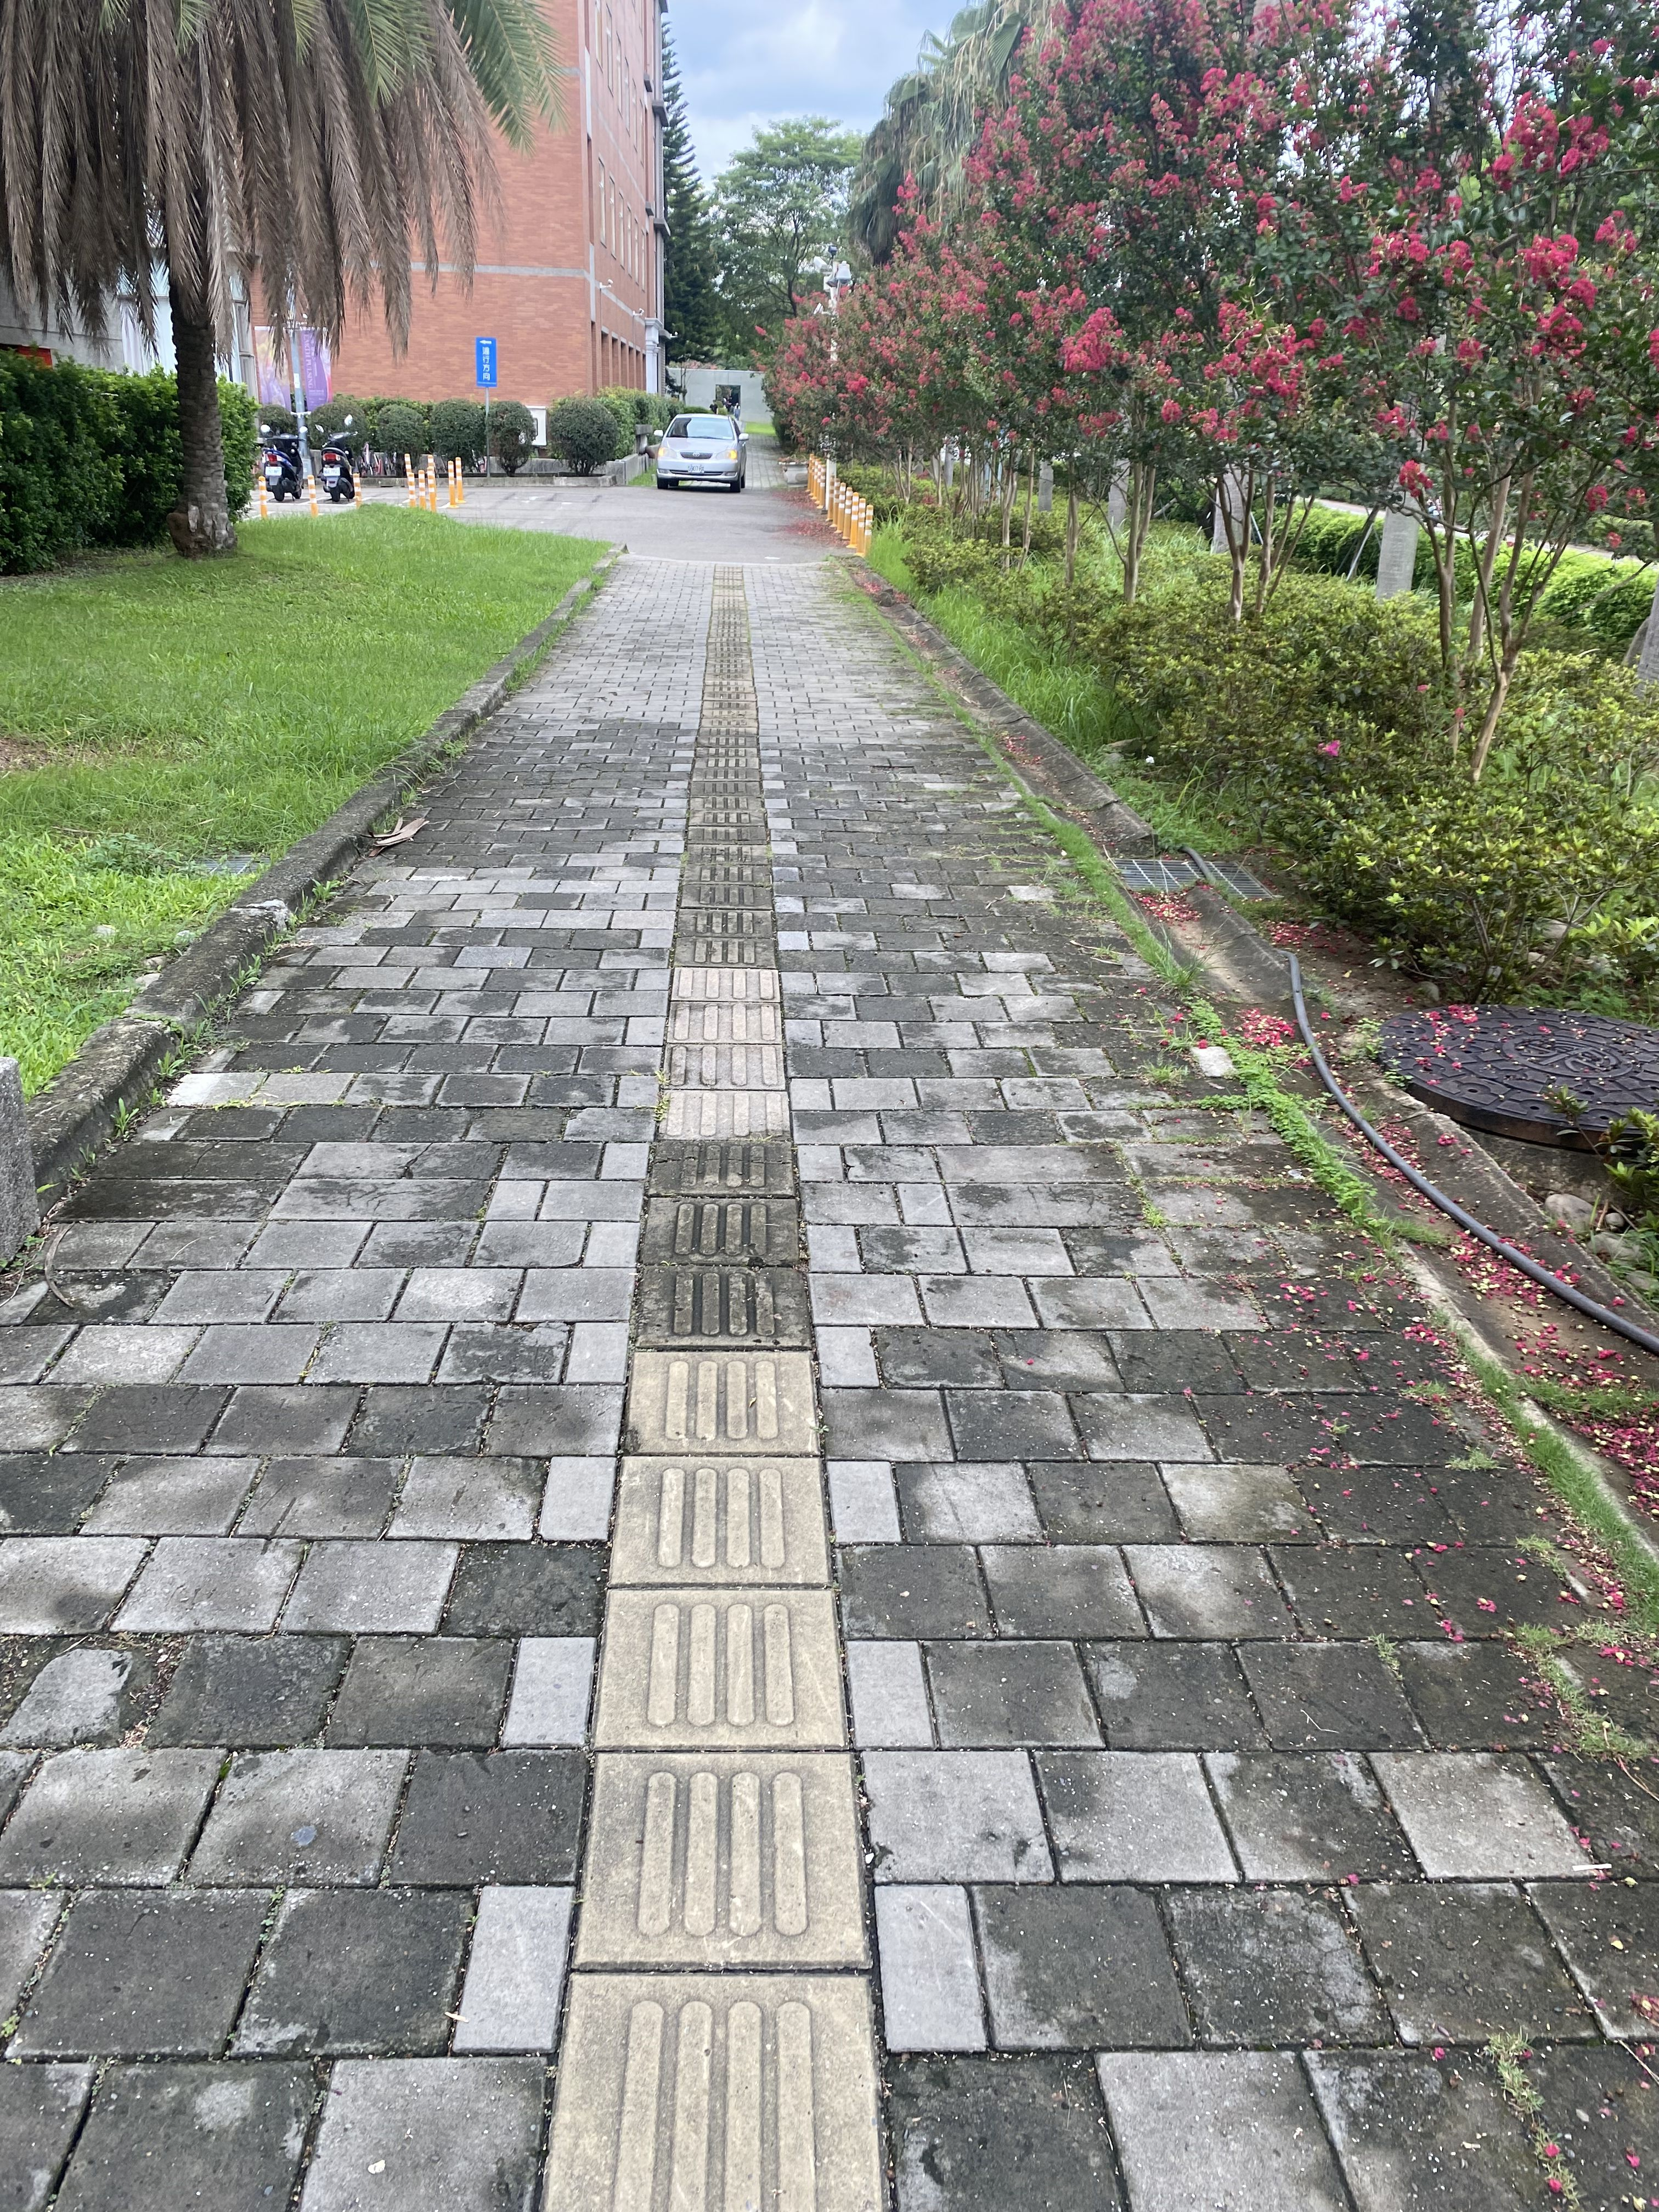0: (14, 688, 1659, 2212)
sidewalk: (460, 550, 1140, 1310)
